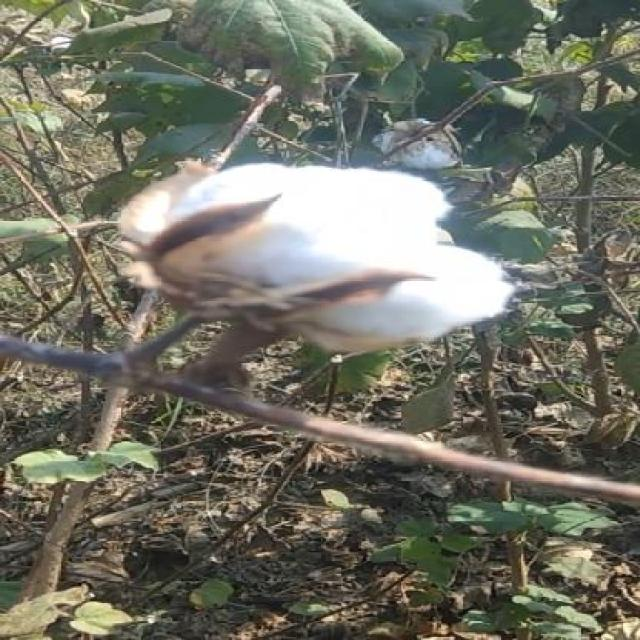cotton_ready: (109, 136, 522, 467), (97, 118, 486, 424)
